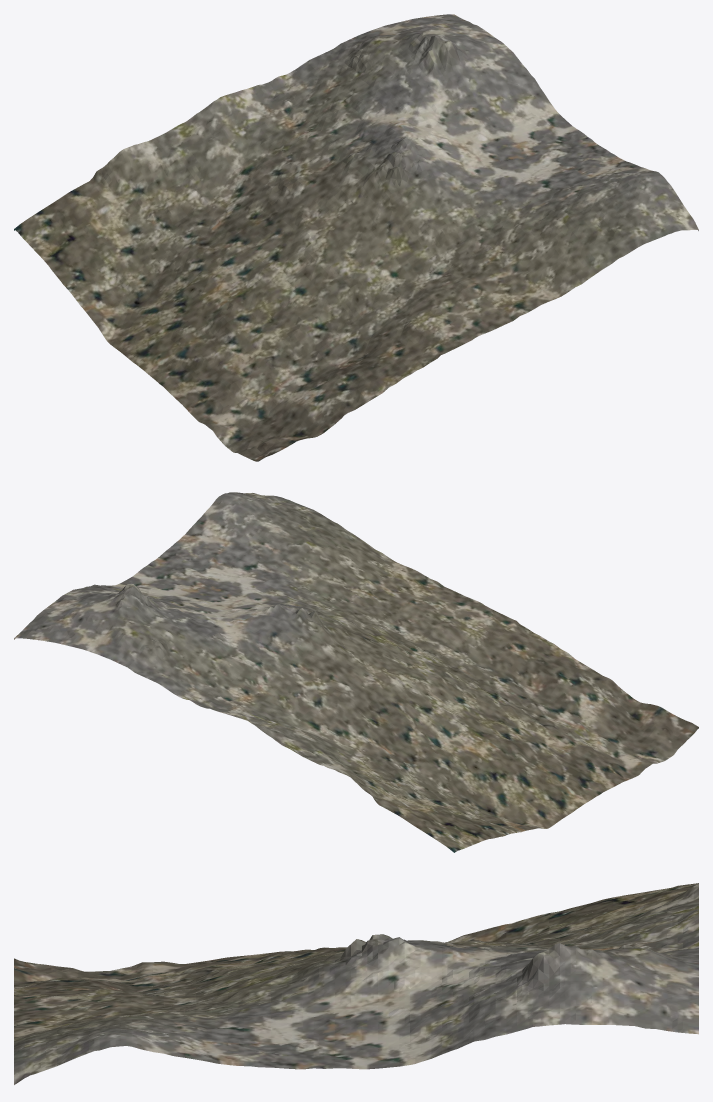
The picture shows the model from 3 angles, top to bottom: view 1: azimuth 30°, elevation 25°; view 2: azimuth 150°, elevation 25°; view 3: azimuth 270°, elevation 25°; orthographic projection. The views are drawn at different scales.
Bounding box in the file's own units: 250 × 111 × 241.
Materials: 1 (1 with a texture image).
